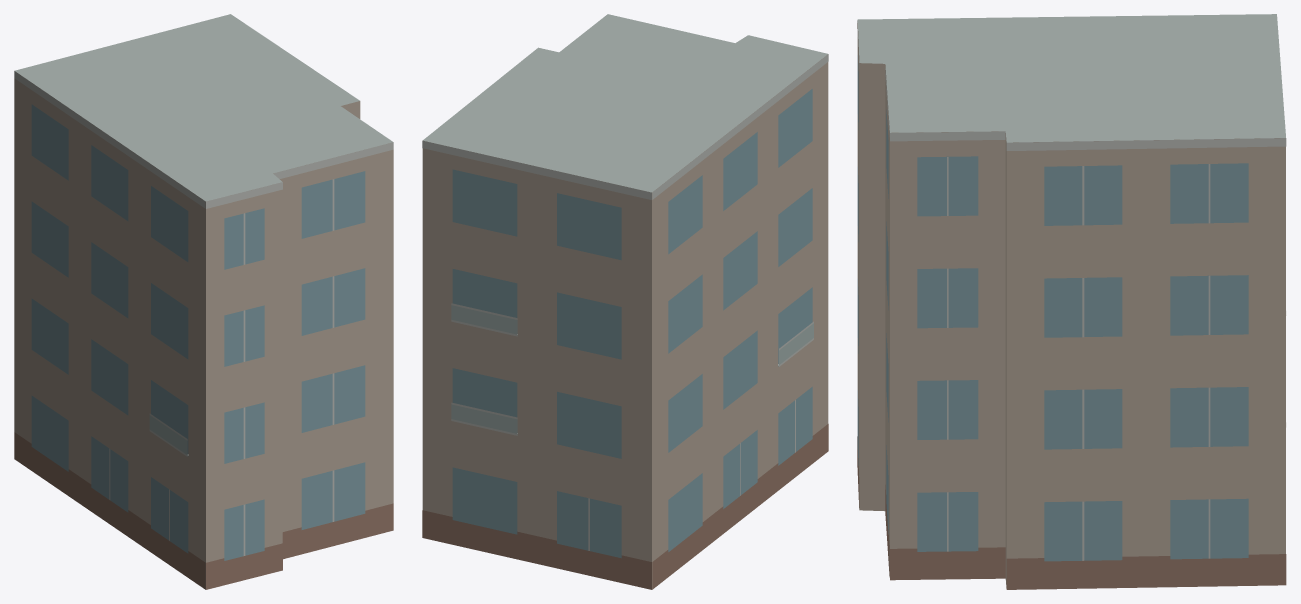
The model's file is survey-upis-32957364.glb.
The picture shows the model from 3 angles, left to right: view 1: azimuth 30°, elevation 25°; view 2: azimuth 150°, elevation 25°; view 3: azimuth 270°, elevation 25°; orthographic projection. The views are drawn at different scales.
Visible parts, largest first — view 1: survey-upis-32957364.tmp; view 2: survey-upis-32957364.tmp; view 3: survey-upis-32957364.tmp.
Boxes of the visible parts, x1,y1,x2,y2 form: survey-upis-32957364.tmp: (14, 14, 393, 589); survey-upis-32957364.tmp: (422, 14, 828, 589); survey-upis-32957364.tmp: (857, 14, 1286, 589).
Size of the model in its own units: 7.84 by 12.7 by 11.04.
